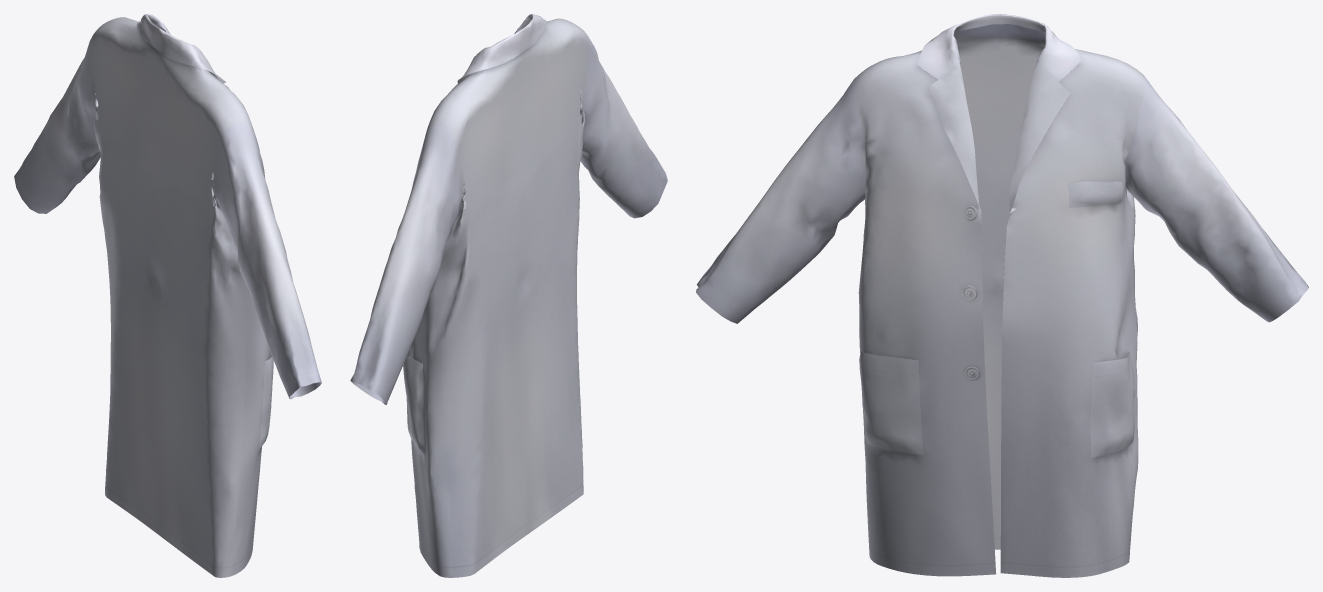
The model's file is Male White Lab Coat.fbx.
The picture shows the model from 3 angles, left to right: view 1: azimuth 30°, elevation 25°; view 2: azimuth 150°, elevation 25°; view 3: azimuth 270°, elevation 25°; orthographic projection. The views are drawn at different scales.
Visible parts, largest first — view 1: pasted__polySurface7_lambert2_0; view 2: pasted__polySurface7_lambert2_0; view 3: pasted__polySurface7_lambert2_0.
Boxes of the visible parts, x1,y1,x2,y2 form: pasted__polySurface7_lambert2_0: (14,14,321,577); pasted__polySurface7_lambert2_0: (350,14,667,577); pasted__polySurface7_lambert2_0: (696,14,1308,577).
Bounding box in the file's own units: 17.34 × 102 × 105.
1 material, 1 textured.
